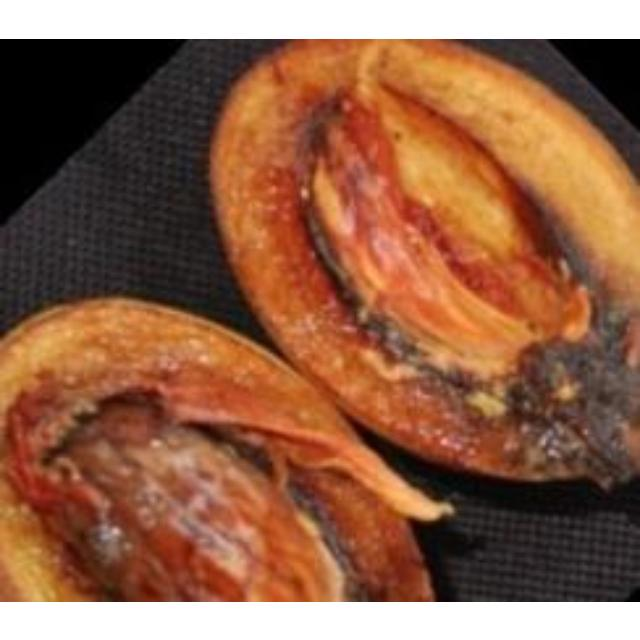damaged: (207, 38, 637, 497), (0, 295, 454, 599)
